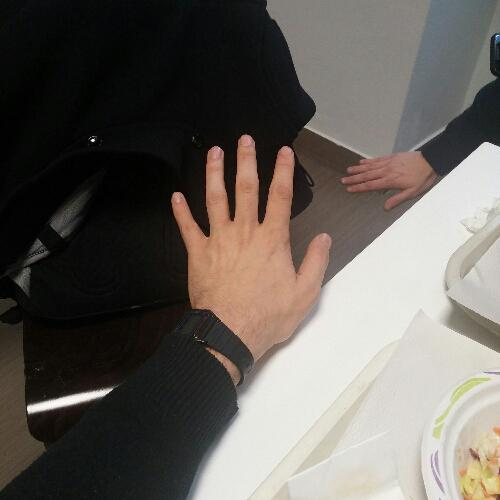paper: (162, 130, 338, 364), (340, 144, 442, 212)
